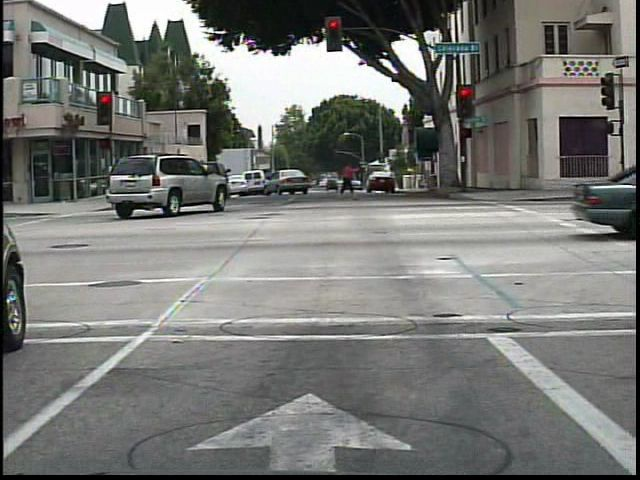person: (334, 157, 362, 204)
